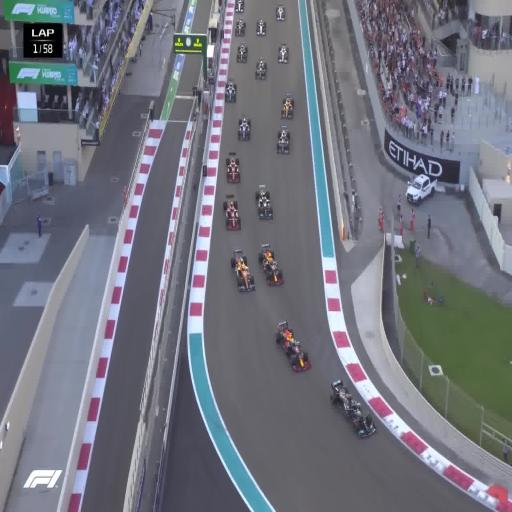f1_car: (330, 380, 376, 437), (275, 320, 310, 371), (258, 244, 284, 284), (231, 250, 255, 291), (255, 183, 273, 219), (223, 194, 241, 229), (226, 152, 240, 183), (276, 126, 290, 154), (280, 92, 294, 118), (238, 115, 250, 141), (225, 79, 237, 102), (255, 57, 266, 79), (237, 42, 248, 62), (278, 43, 289, 63), (235, 18, 246, 35), (256, 19, 266, 36), (275, 4, 285, 20), (235, 0, 244, 13)
